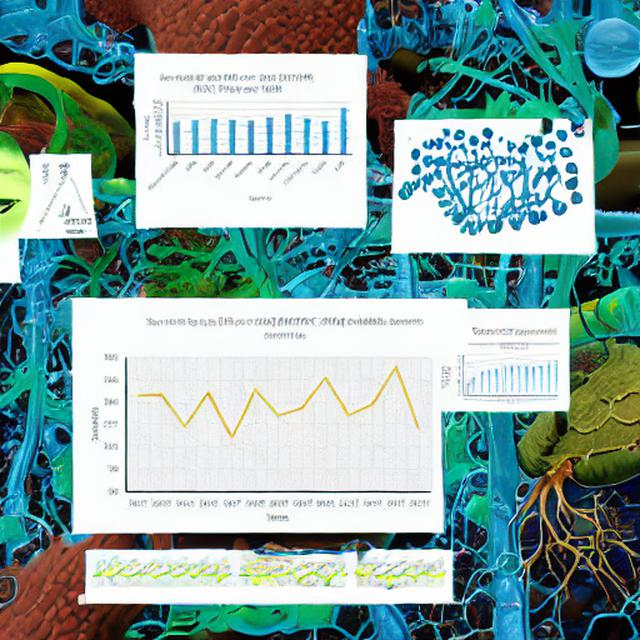Graph: (81, 314, 439, 528), (137, 67, 358, 207), (449, 341, 562, 408)
